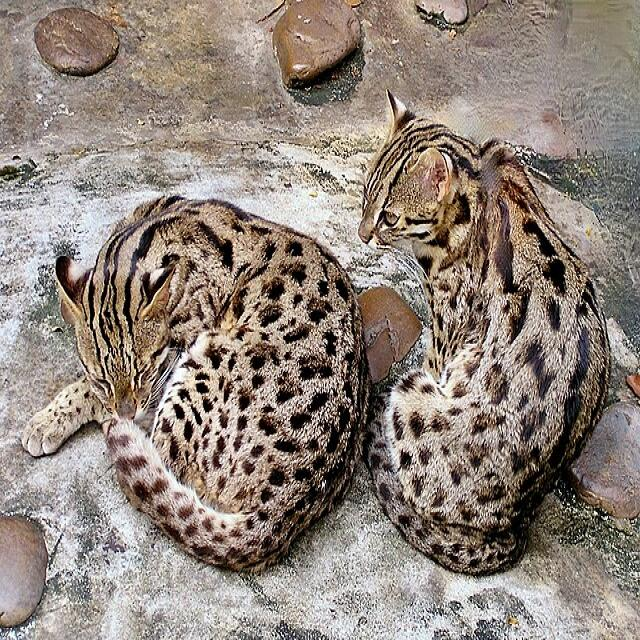leopard: (62, 168, 386, 595), (345, 88, 570, 612)
